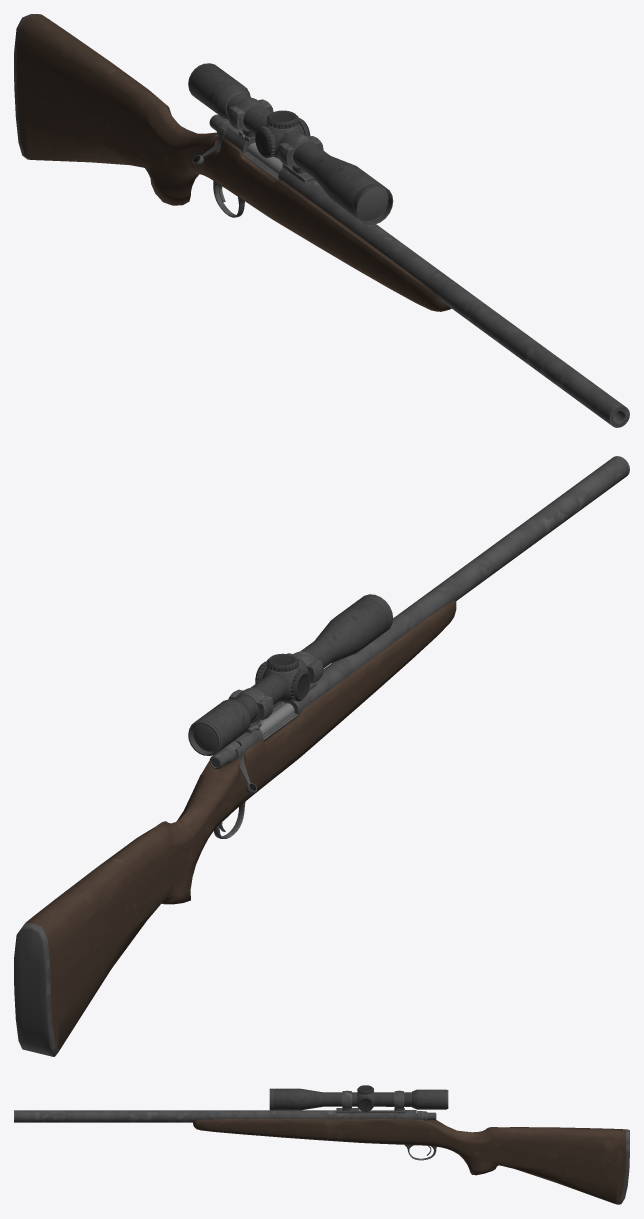
The model's file is m40_player_prop.glb.
3 renders of one model, top to bottom at view 1: azimuth 30°, elevation 25°; view 2: azimuth 150°, elevation 25°; view 3: azimuth 270°, elevation 25°, orthographic. The views are drawn at different scales.
Parts seen in each view (by area): view 1: M40; view 2: M40; view 3: M40.
Part boxes in pixels (x1,y1,x2,y2): M40: [14, 14, 629, 427]; M40: [14, 456, 629, 1056]; M40: [14, 1085, 629, 1204].
Bounding box in the file's own units: 0.057 × 0.227 × 1.12.
Materials: 1 (1 with a texture image).
